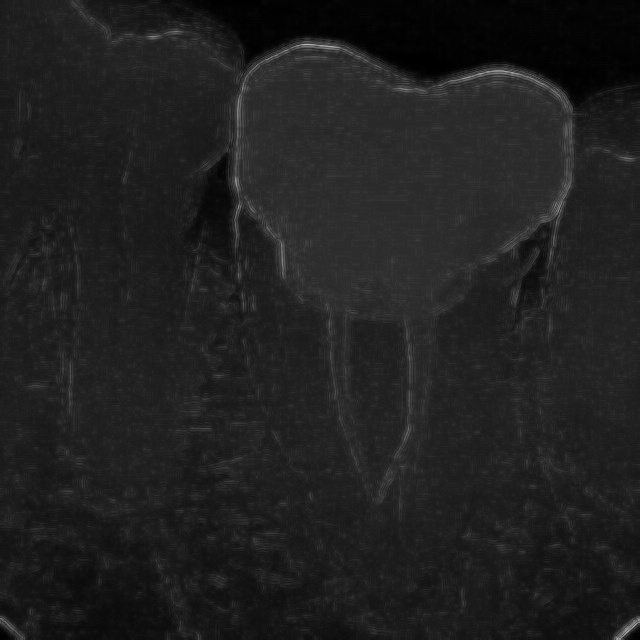Class 1- complete endodontic treatment: (220, 34, 572, 617)
cavity: (2, 33, 224, 545)
